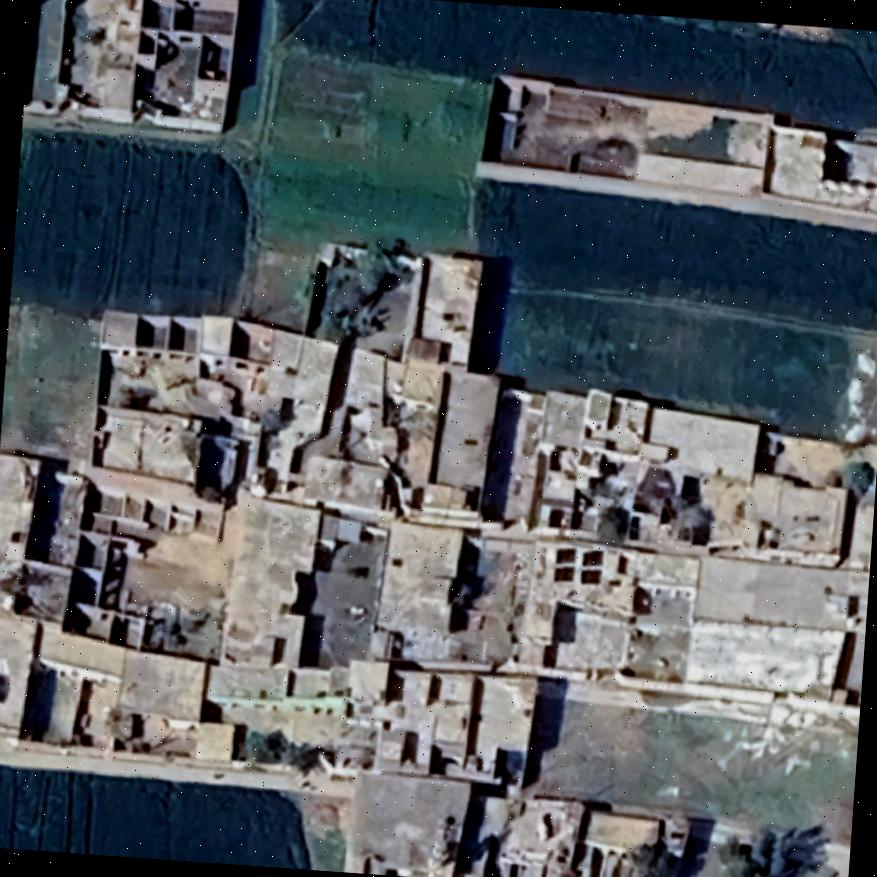Solarpanel: (548, 543, 578, 585), (578, 545, 606, 587)
